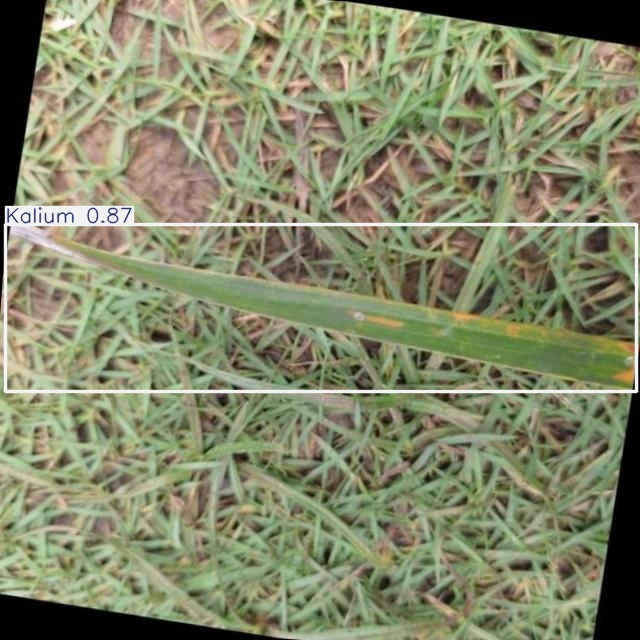Kalium: (5, 224, 636, 392)
